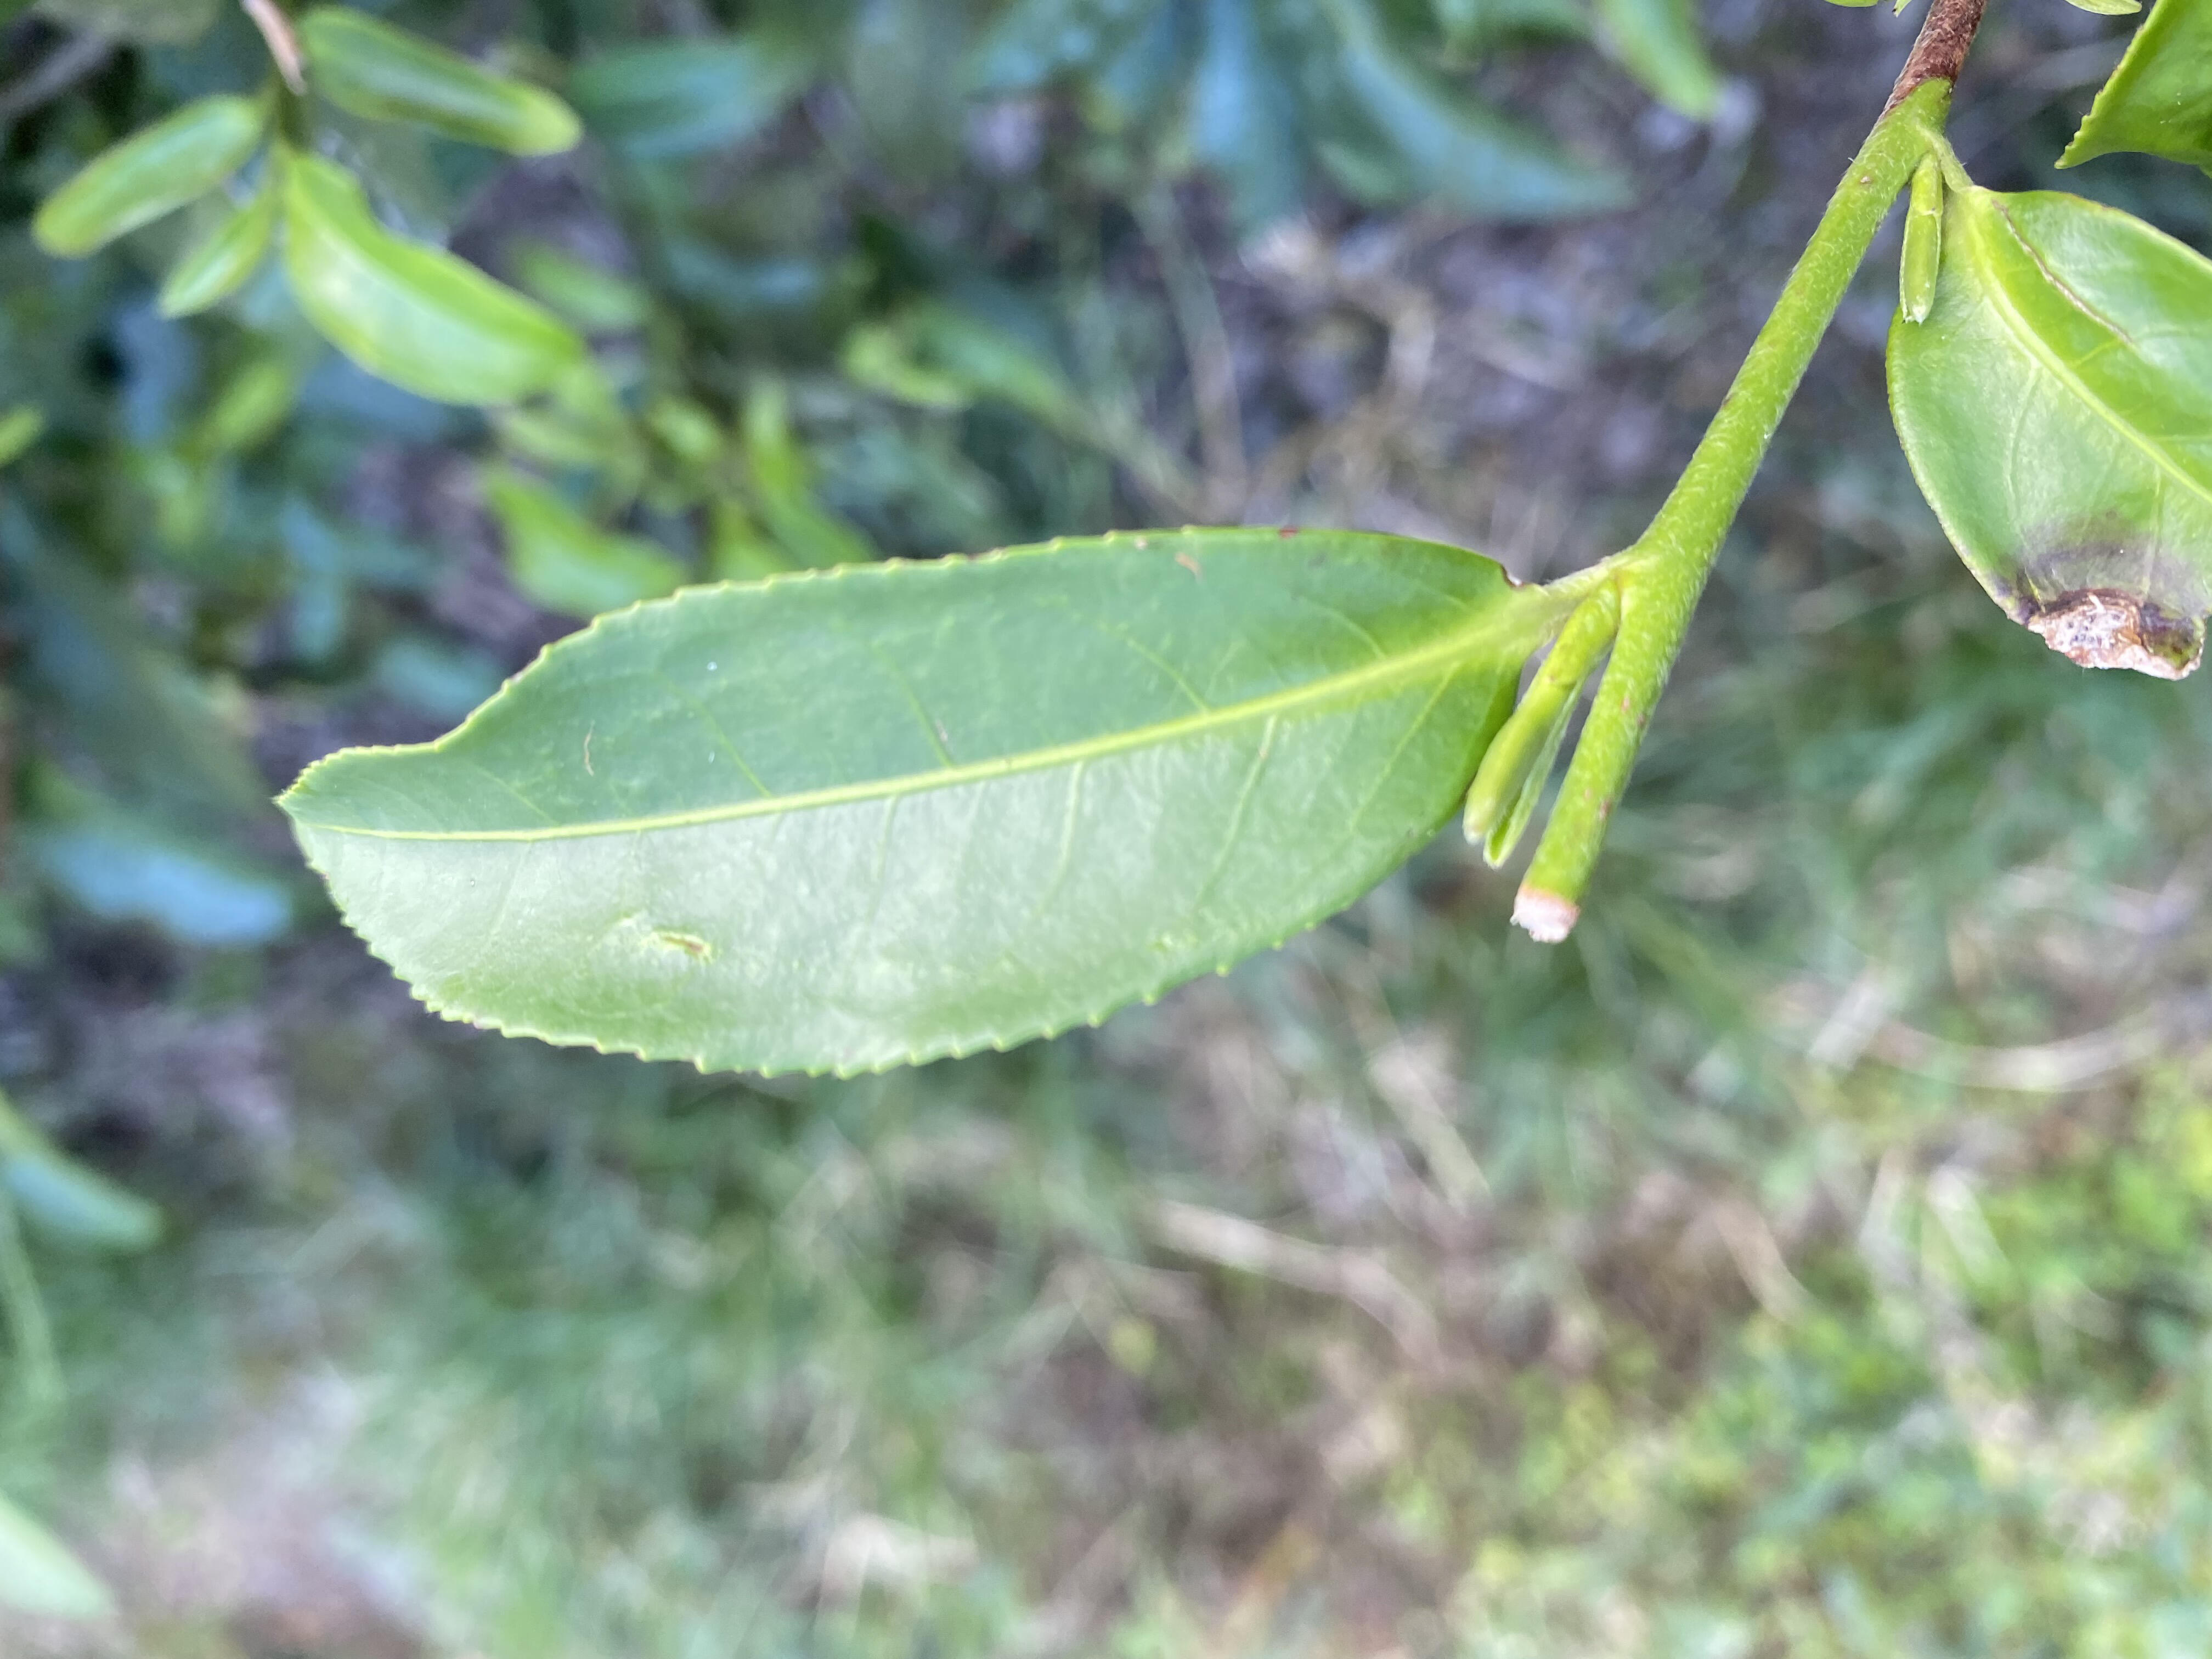tanju_high: (1879, 186, 2209, 681)
tanju_low: (266, 518, 1541, 1082)
